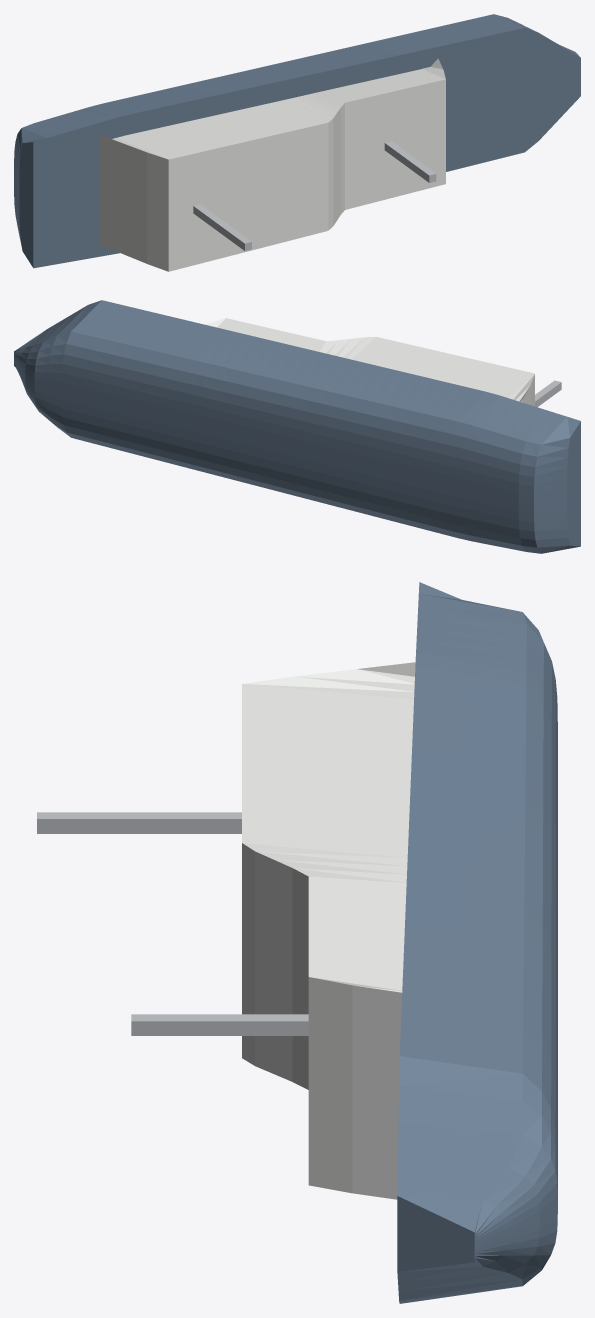
File: power-large-loft.glb
3 renders of one model, top to bottom at view 1: azimuth 30°, elevation 25°; view 2: azimuth 150°, elevation 25°; view 3: azimuth 270°, elevation 25°, orthographic. The views are drawn at different scales.
Visible parts, largest first — view 1: power-large; view 2: power-large; view 3: power-large.
Boxes of the visible parts, x1,y1,x2,y2 form: power-large: [14, 14, 580, 271]; power-large: [14, 300, 580, 553]; power-large: [37, 582, 557, 1303].
Bounding box in the file's own units: 1.87 × 0.4392 × 0.7622.
